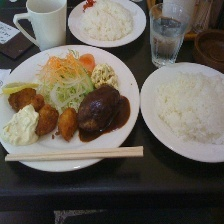rice: (79, 0, 135, 43)
